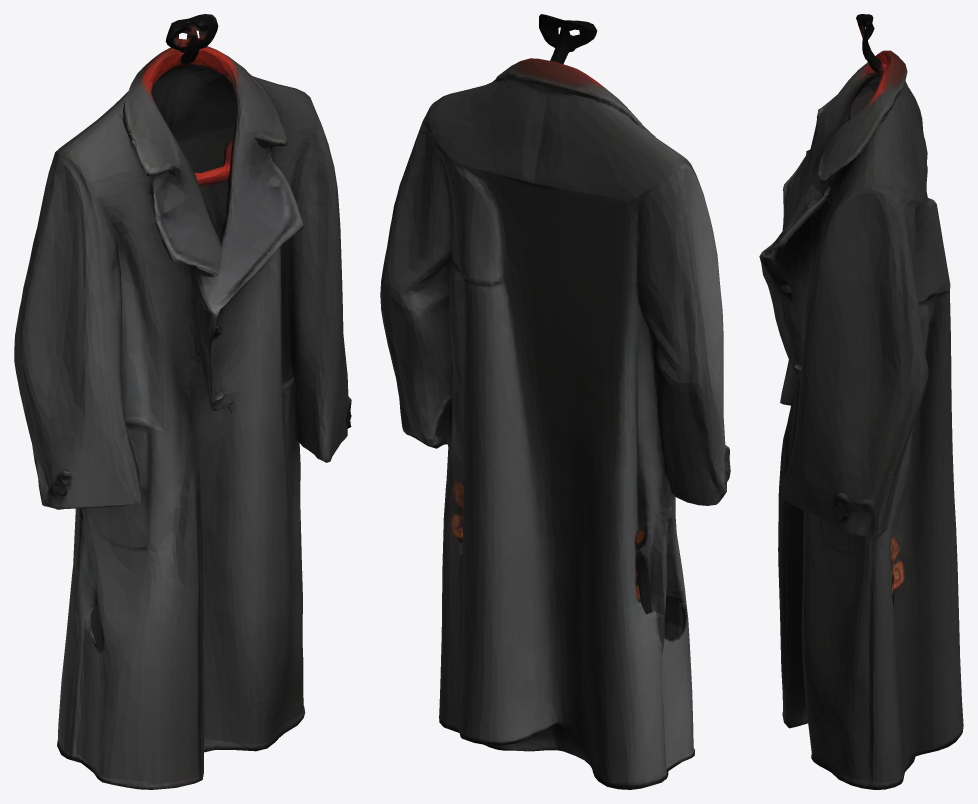
The model's file is coat.glb.
The picture shows the model from 3 angles, left to right: view 1: azimuth 30°, elevation 25°; view 2: azimuth 150°, elevation 25°; view 3: azimuth 270°, elevation 25°; orthographic projection.
Parts seen in each view (by area): view 1: geometry_0; view 2: geometry_0; view 3: geometry_0.
Part boxes in pixels (left/top/right/bottom): geometry_0: left=14, top=14, right=351, bottom=789; geometry_0: left=380, top=14, right=730, bottom=789; geometry_0: left=759, top=14, right=963, bottom=789.
Bounding box in the file's own units: 0.4532 × 0.9978 × 0.2564.
1 material, 1 textured.
